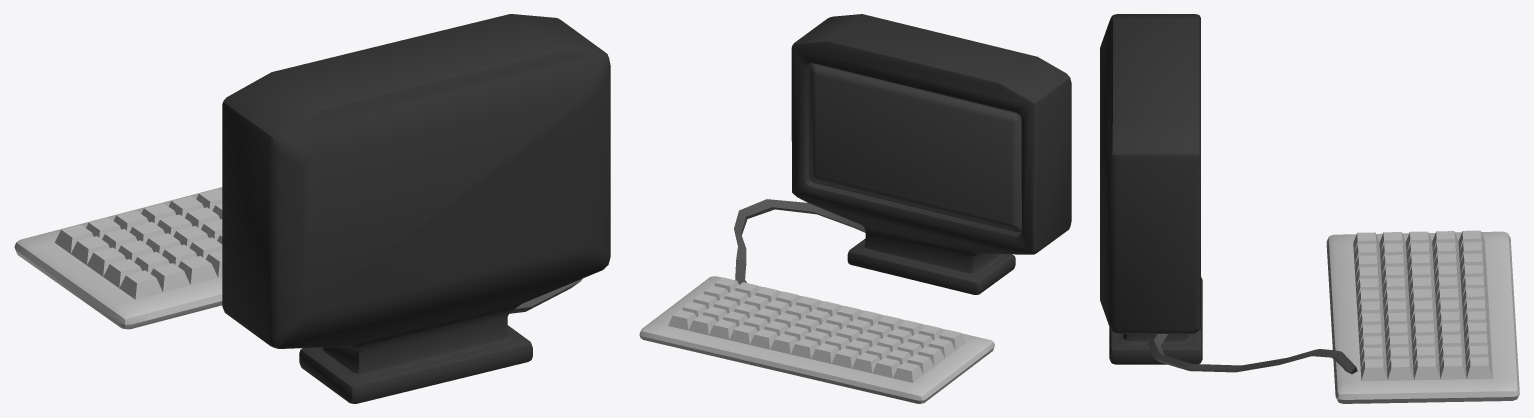
The model's file is Props_Computer_01.fbx.
3 renders of one model, left to right at view 1: azimuth 30°, elevation 25°; view 2: azimuth 150°, elevation 25°; view 3: azimuth 270°, elevation 25°, orthographic. The views are drawn at different scales.
Visible parts, largest first — view 1: Props_Computer_01; view 2: Props_Computer_01; view 3: Props_Computer_01.
Part boxes in pixels (left/top/right/bottom): Props_Computer_01: left=14, top=14, right=610, bottom=403; Props_Computer_01: left=639, top=14, right=1071, bottom=403; Props_Computer_01: left=1100, top=14, right=1519, bottom=403.
Bounding box in the file's own units: 62.61 × 44.08 × 64.67.
